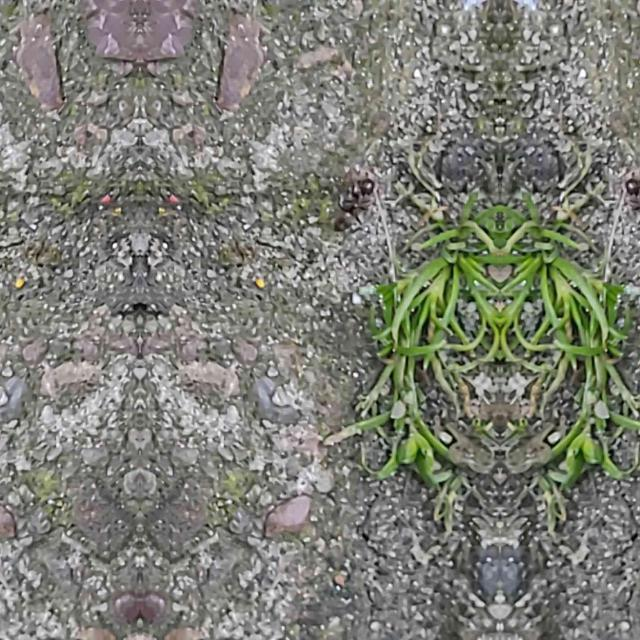Lasius: (334, 160, 378, 233), (618, 160, 640, 232)
